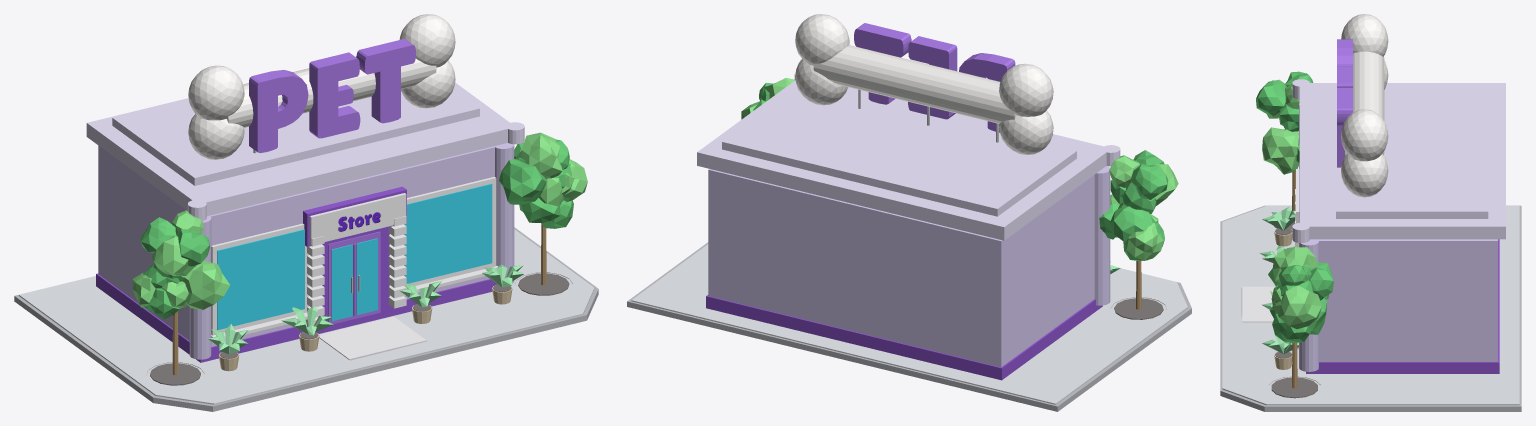
File: pet-store.glb
The picture shows the model from 3 angles, left to right: view 1: azimuth 30°, elevation 25°; view 2: azimuth 150°, elevation 25°; view 3: azimuth 270°, elevation 25°; orthographic projection. The views are drawn at different scales.
Visible parts, largest first — view 1: PetStore, StoreSign; view 2: PetStore; view 3: PetStore.
Part boxes in pixels (bbox=[...]): PetStore: bbox=[14, 14, 598, 411]; StoreSign: bbox=[316, 197, 402, 240]; PetStore: bbox=[627, 14, 1191, 411]; PetStore: bbox=[1220, 14, 1521, 411].
Bounding box in the file's own units: 15.1 × 8.6 × 9.5.
17 materials, 1 textured.
